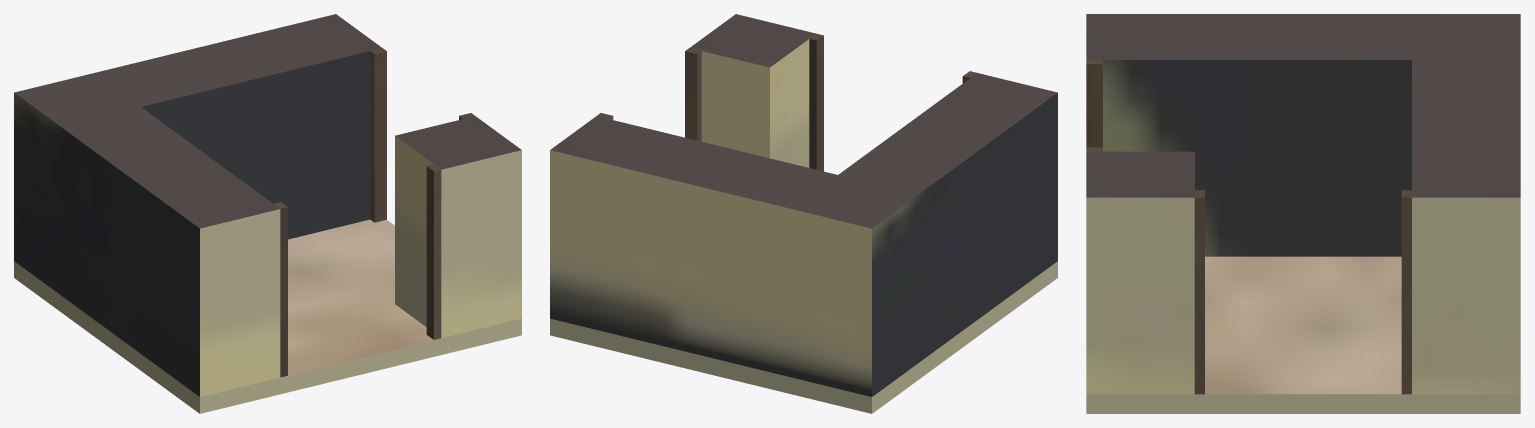
File: Tile_Corner_Wüste.fbx
The picture shows the model from 3 angles, left to right: view 1: azimuth 30°, elevation 25°; view 2: azimuth 150°, elevation 25°; view 3: azimuth 270°, elevation 25°; orthographic projection. The views are drawn at different scales.
Parts seen in each view (by area): view 1: TileCorner; view 2: TileCorner; view 3: TileCorner.
Part boxes in pixels (bbox=[...]): TileCorner: bbox=[14, 14, 521, 413]; TileCorner: bbox=[550, 14, 1057, 413]; TileCorner: bbox=[1086, 14, 1520, 413].
Bounding box in the file's own units: 2000 × 1100 × 2000.
Materials: 4 (4 with a texture image).
